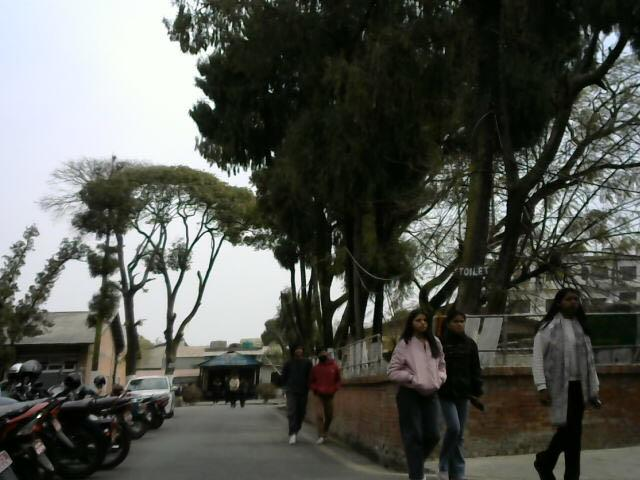Car: (121, 355, 185, 416)
Motorcycle: (0, 348, 166, 480)
Person: (538, 276, 616, 480), (436, 311, 504, 480), (400, 306, 457, 480), (308, 344, 373, 461), (281, 333, 317, 461), (225, 371, 251, 417)
Tree: (166, 1, 634, 274), (71, 149, 264, 360), (1, 221, 102, 352)
